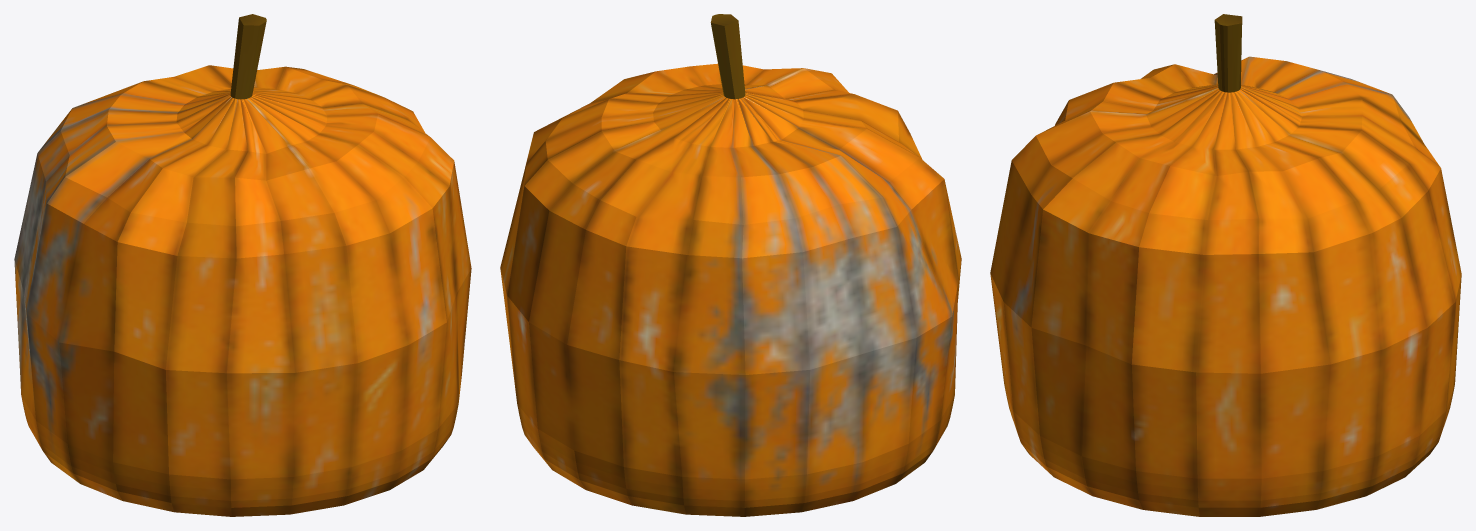
The model's file is strange_pumpkin.glb.
3 renders of one model, left to right at view 1: azimuth 30°, elevation 25°; view 2: azimuth 150°, elevation 25°; view 3: azimuth 270°, elevation 25°, orthographic.
Visible parts, largest first — view 1: Cylinder; view 2: Cylinder; view 3: Cylinder.
Part boxes in pixels (<box>): Cylinder: <box>14,14,471,516</box>; Cylinder: <box>500,14,961,516</box>; Cylinder: <box>990,14,1461,516</box>.
Bounding box in the file's own units: 3.12 × 3.05 × 3.14.
Materials: 1 (1 with a texture image).
